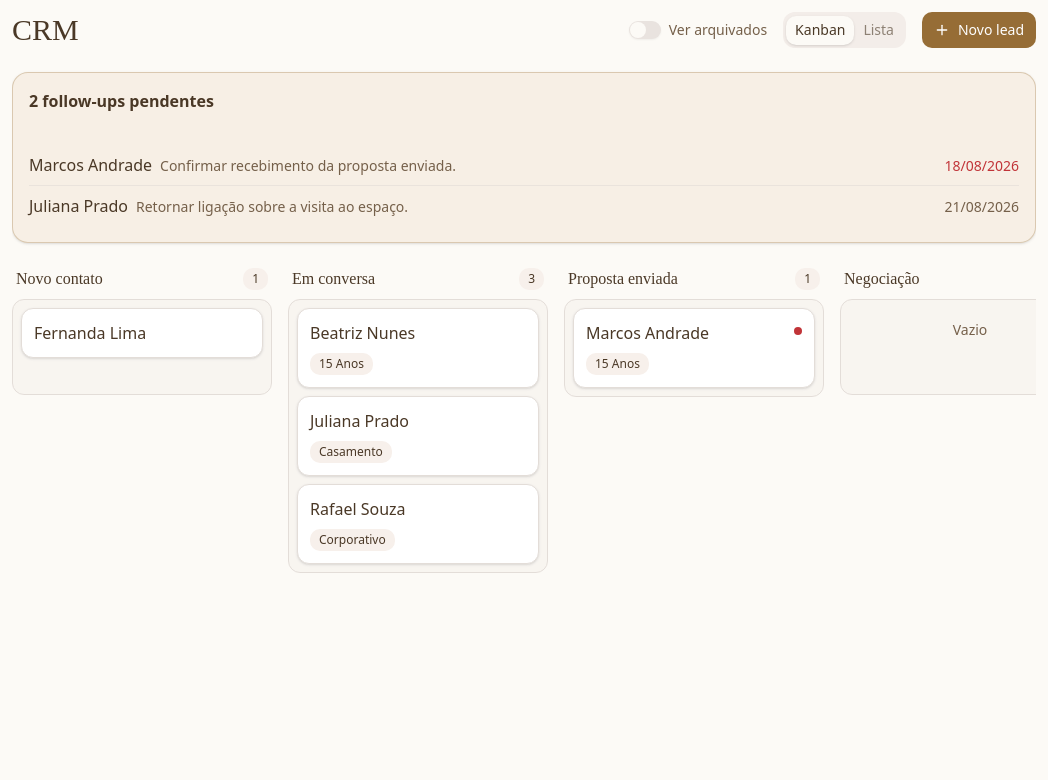
it: CrmPage — lista view › a won lead (linked event) is absent from every kanban column and from the lista's stage <Select>, but shows with a GANHO badge in the lista
Check: the text "Patrícia Gomes" is not shown
Click the tab "Lista".
click(879, 30)  # box [854,16,903,44]
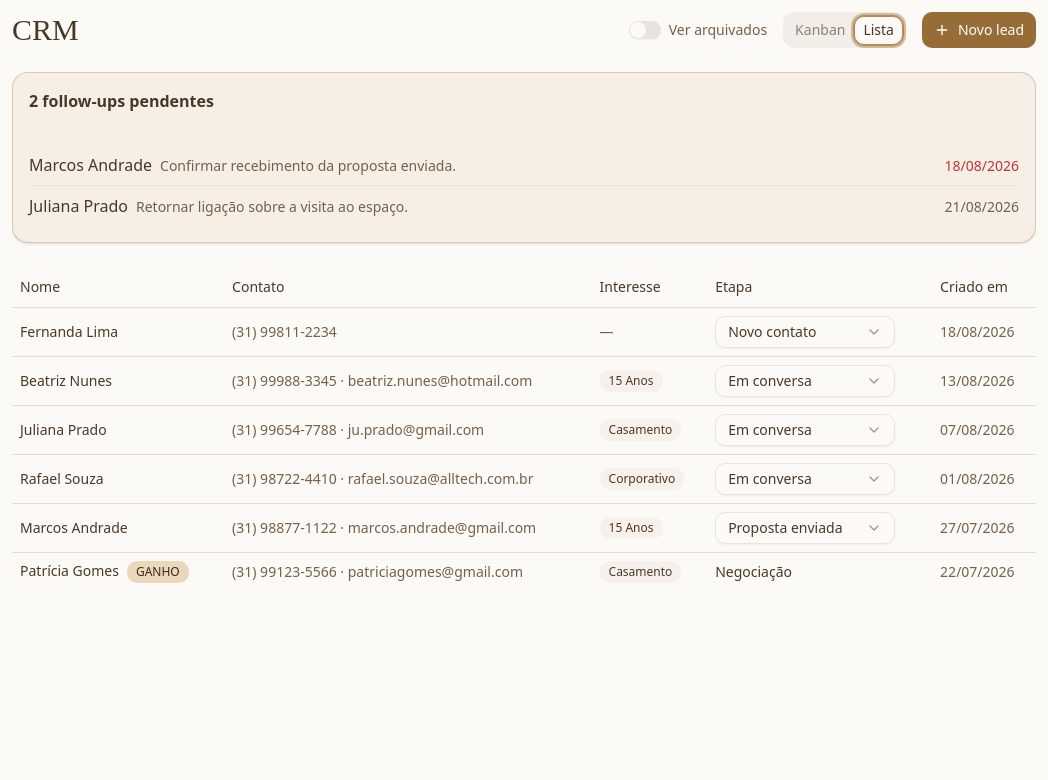
Check: the text "Negociação" is shown, box [707,552,932,590]
Check: the text with test id "ganho-badge-contact-patricia" reads "GANHO", box [136,562,180,580]
